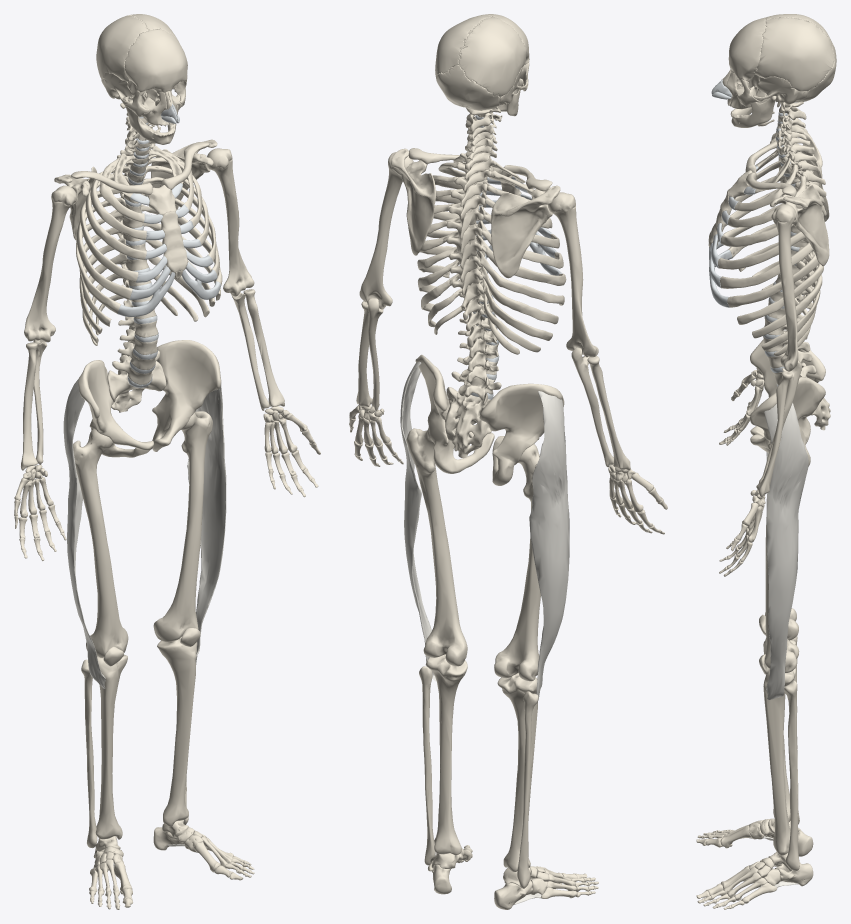
Rendered from body-skeleton.glb.
The picture shows the model from 3 angles, left to right: view 1: azimuth 30°, elevation 25°; view 2: azimuth 150°, elevation 25°; view 3: azimuth 270°, elevation 25°; orthographic projection. The views are drawn at different scales.
Visible parts, largest first — view 1: FJ3259, FJ3365, FJ1423M, FJ3288, FJ3282, FJ3200, FJ1423, FJ3387, FJ3152, FJ3368, FJ3262, FJ3380 (+19 smaller); view 2: FJ1423, FJ3259, FJ3152, FJ3380, FJ3384, FJ3365, FJ3282, FJ1423M, FJ3288, FJ3387, FJ3368, FJ3279 (+16 smaller); view 3: FJ1423M, FJ3274, FJ3282, FJ3262, FJ3279, FJ3288, FJ3260, FJ3200, FJ3152, FJ3277, FJ3281, FJ3289 (+25 smaller).
Boxes of the visible parts, x1,y1,x2,y2 form: FJ3259: (153,411,212,642); FJ3365: (73,428,128,657); FJ1423M: (187,371,226,664); FJ3288: (152,340,221,451); FJ3282: (157,636,197,826); FJ3200: (125,28,187,93); FJ1423: (63,379,105,688); FJ3387: (88,654,127,839); FJ3152: (78,360,153,457); FJ3368: (24,185,76,342); FJ3262: (207,148,254,296); FJ3380: (96,15,149,81); FJ1423: (529,391,569,703); FJ3259: (406,428,467,666); FJ3152: (479,383,564,485); FJ3380: (458,16,526,96); FJ3384: (491,185,560,278); FJ3365: (494,444,540,681); FJ3282: (425,654,467,854); FJ1423M: (400,361,436,681); FJ3288: (415,354,494,473); FJ3387: (497,673,537,871); FJ3368: (549,192,598,357); FJ3279: (391,148,435,255); FJ1423M: (764,403,808,699); FJ3274: (755,17,834,91); FJ3282: (763,668,795,855); FJ3262: (771,204,798,371); FJ3279: (770,184,829,266); FJ3288: (750,377,825,466); FJ3260: (784,680,799,870); FJ3200: (728,17,767,80); FJ3152: (750,330,825,444); FJ3277: (756,371,792,497); FJ3281: (753,76,807,107); FJ3289: (730,94,776,127).
Bounding box in the file's own units: 0.6478 × 1.71 × 0.254.
